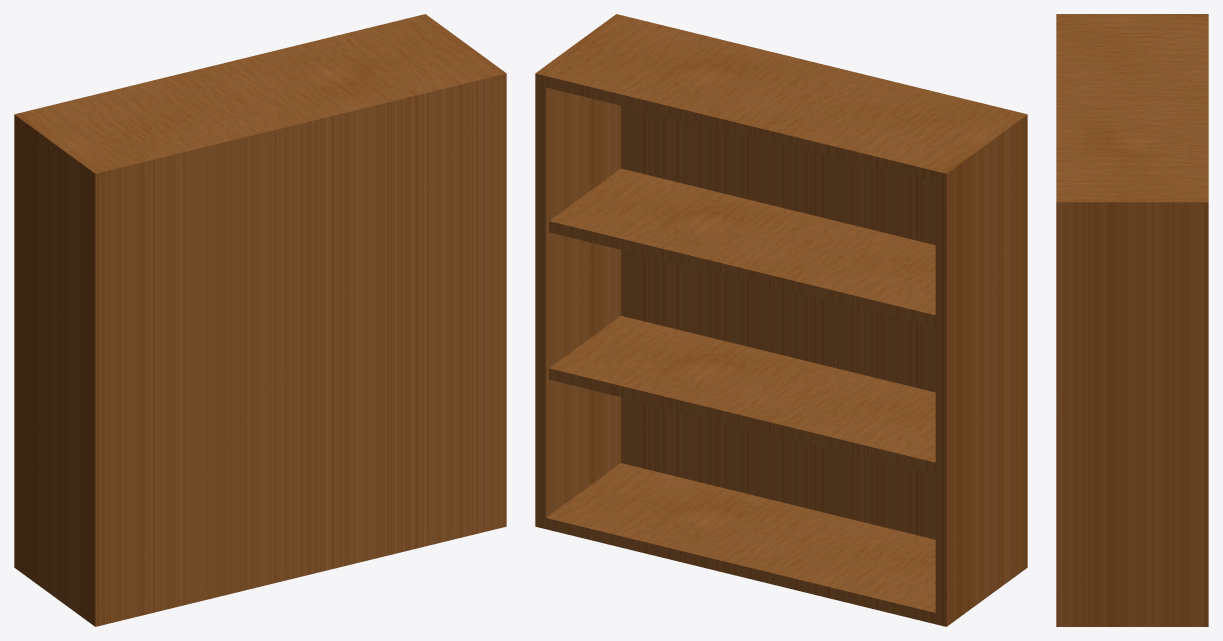
File: bookcase.FBX
3 renders of one model, left to right at view 1: azimuth 30°, elevation 25°; view 2: azimuth 150°, elevation 25°; view 3: azimuth 270°, elevation 25°, orthographic. The views are drawn at different scales.
Visible parts, largest first — view 1: bookcase; view 2: bookcase; view 3: bookcase.
Boxes of the visible parts, x1=… form: bookcase: x1=14, y1=14, x2=506, y2=626; bookcase: x1=535, y1=14, x2=1027, y2=626; bookcase: x1=1056, y1=14, x2=1208, y2=626.
Bounding box in the file's own units: 38 × 40 × 13.
Materials: 1 (1 with a texture image).
